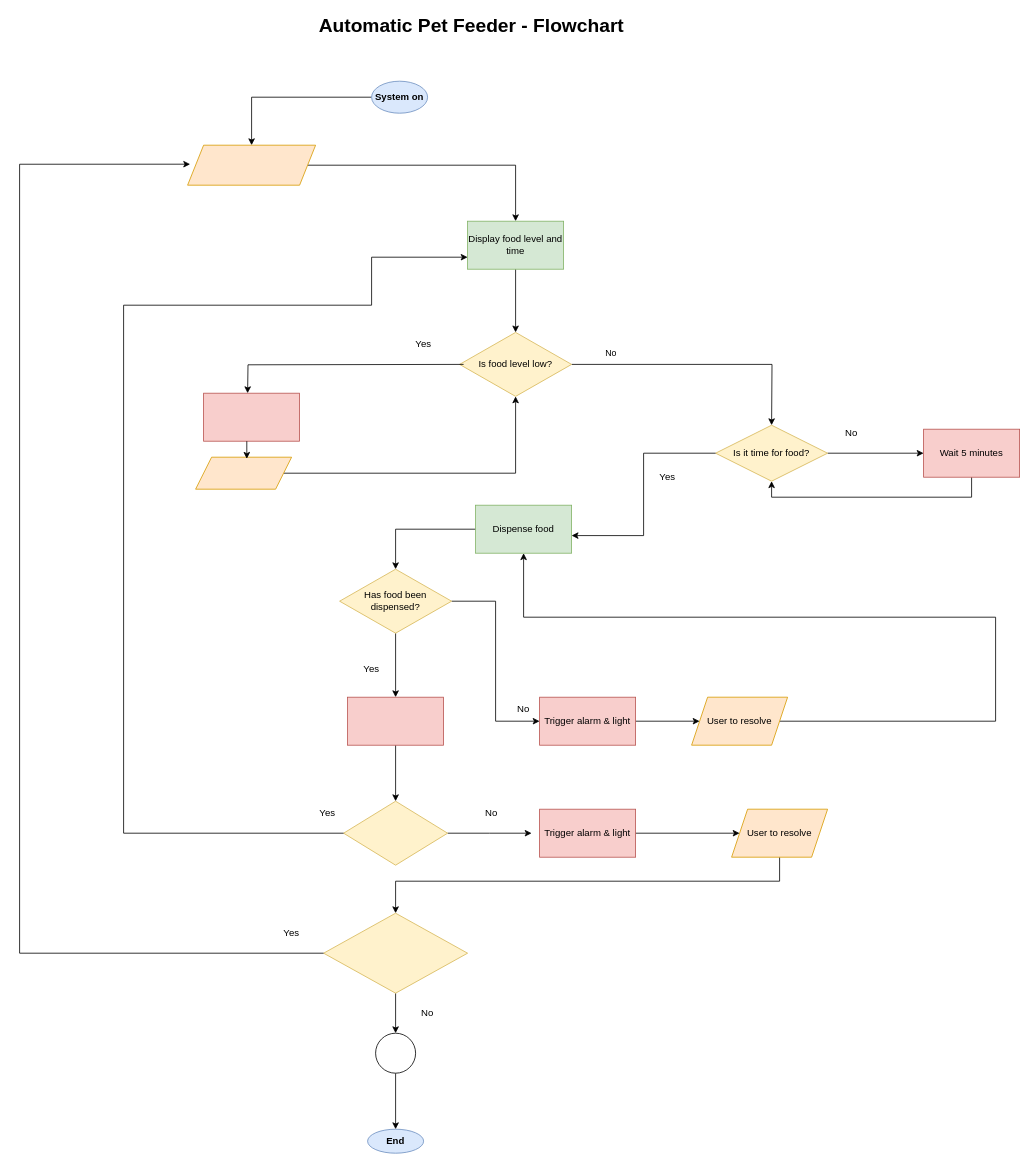
This 1034x1167 diagram has some shape labels left out. The shapes that lost their labels are listed below. From the top down, each one's centre as x and y in pixels, then its label:
the point at 251,164: Input feeding times and amounts
the point at 251,416: Display low food alert
the point at 243,472: Input food
the point at 395,720: Wait 15 minutes
the point at 395,832: Has pet eaten?
the point at 395,952: Does system need to keep running?
